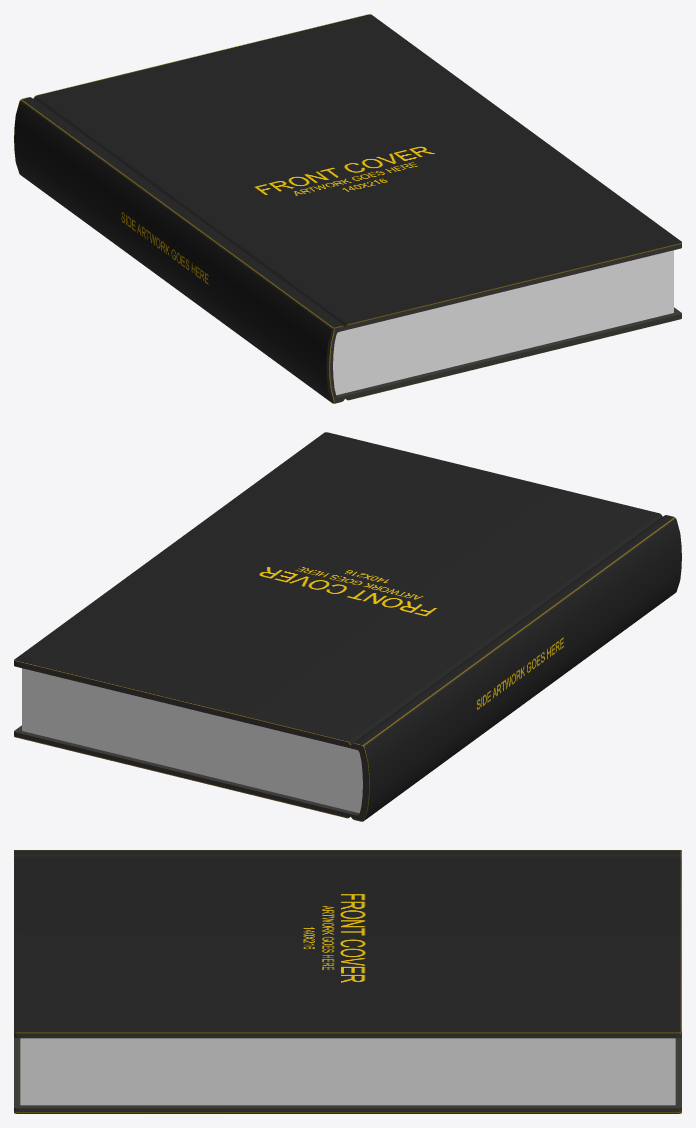
The model's file is BookLG.glb.
The picture shows the model from 3 angles, top to bottom: view 1: azimuth 30°, elevation 25°; view 2: azimuth 150°, elevation 25°; view 3: azimuth 270°, elevation 25°; orthographic projection. The views are drawn at different scales.
Visible parts, largest first — view 1: Book_140x216; view 2: Book_140x216; view 3: Book_140x216.
Boxes of the visible parts, x1,y1,x2,y2 form: Book_140x216: (14,14,681,403); Book_140x216: (14,432,681,821); Book_140x216: (14,850,681,1113).
Bounding box in the file's own units: 0.1452 × 0.0297 × 0.2204.
Materials: 2 (1 with a texture image).
